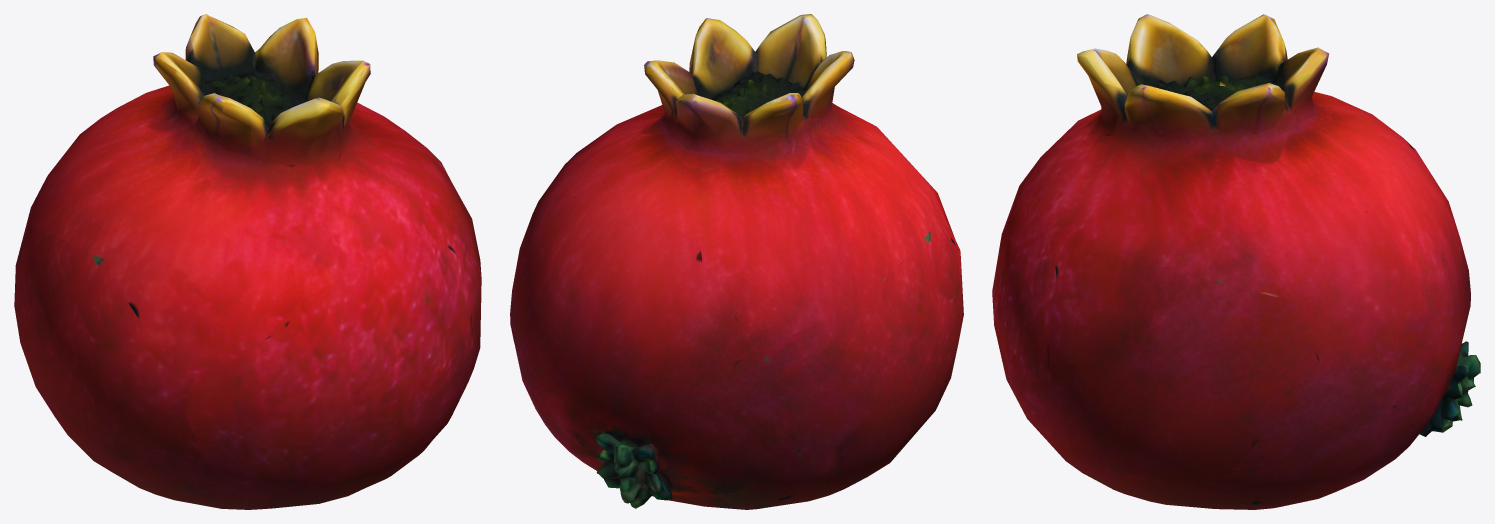
The model's file is Pomegranate.glb.
The picture shows the model from 3 angles, left to right: view 1: azimuth 30°, elevation 25°; view 2: azimuth 150°, elevation 25°; view 3: azimuth 270°, elevation 25°; orthographic projection. The views are drawn at different scales.
Bounding box in the file's own units: 1.8 × 1.79 × 1.9.
Materials: 1 (1 with a texture image).
